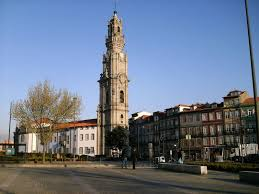clerigos: (95, 0, 131, 158)
